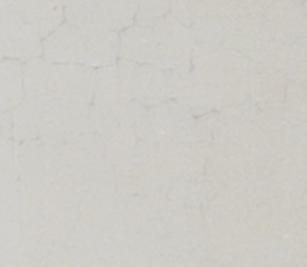retracao: (1, 7, 302, 133)
